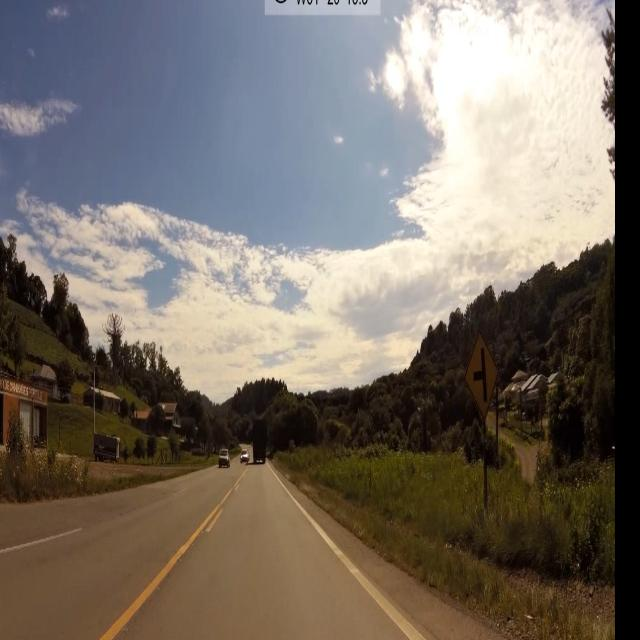A-7a: (464, 334, 499, 417)
